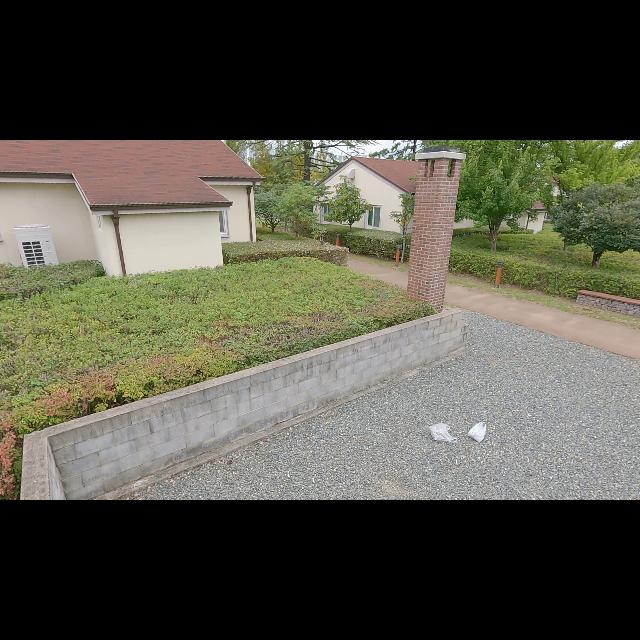trash: (430, 418, 460, 444), (468, 418, 488, 444)
